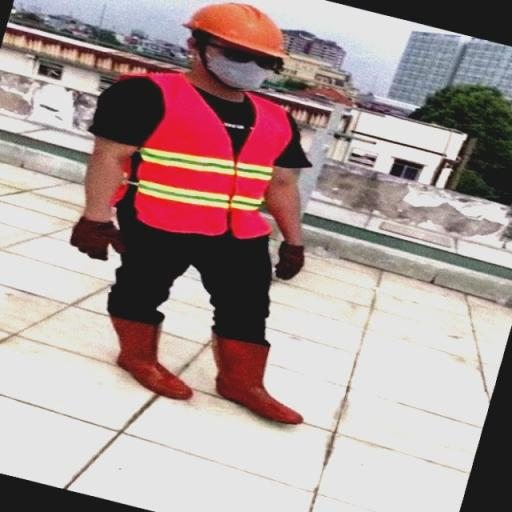Person: (73, 2, 357, 439)
boots: (207, 331, 308, 427), (110, 309, 196, 409)
gloves: (66, 213, 128, 263), (272, 242, 309, 280)
goggles: (194, 32, 286, 74)
helmet: (186, 1, 296, 63)
vest: (120, 58, 277, 245)
